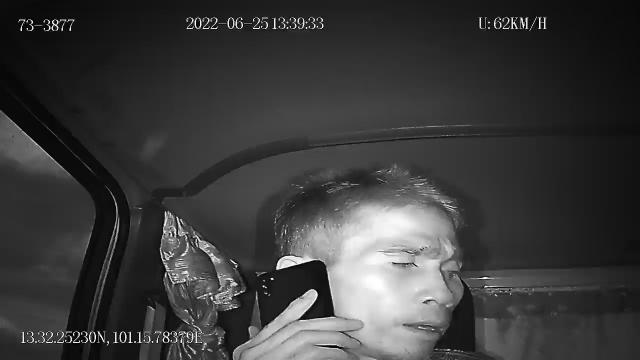PhoneUse: (254, 258, 336, 330)
SafeDriving: (376, 249, 429, 275)
